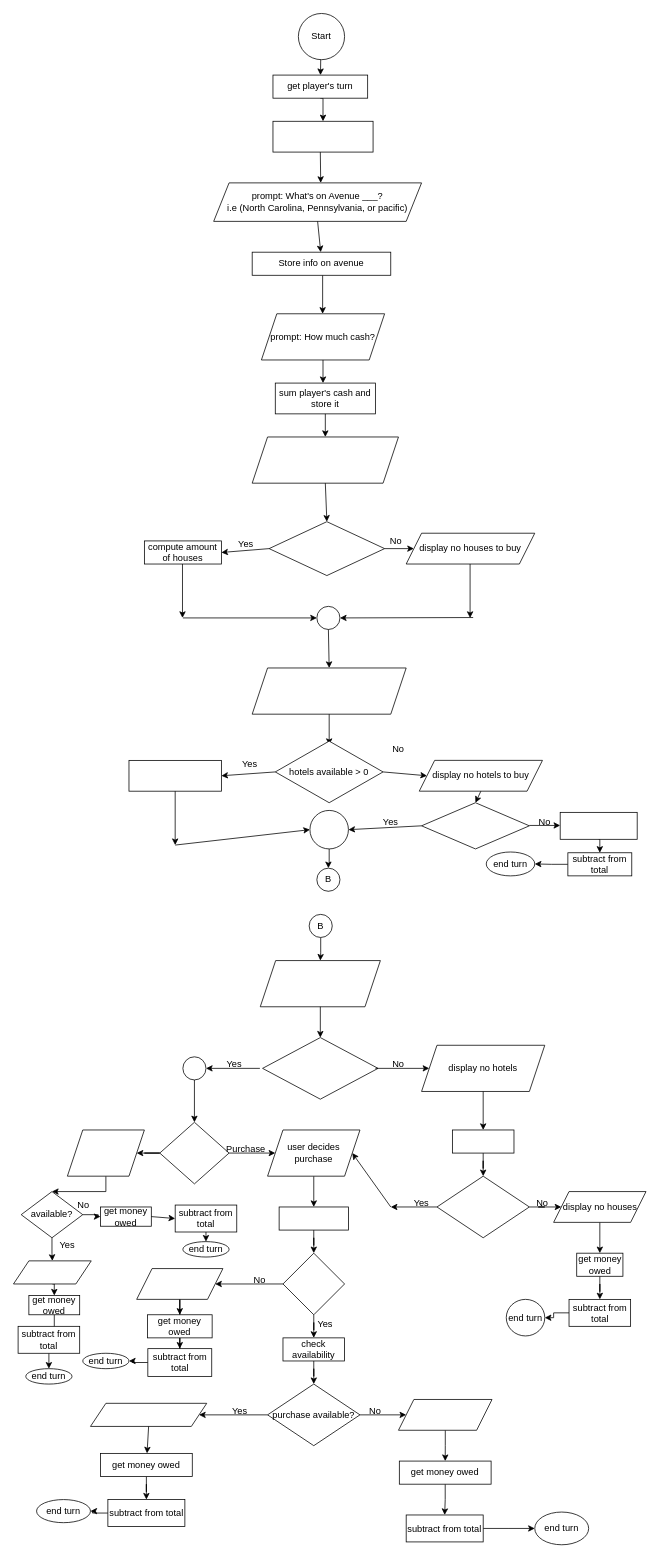
The diagram is 660 pixels wide and 1558 high, and some of its shapes have lost their labels. The shapes that lost their labels are listed below. From the top down, each one's centre as x and y in pixels, then its label:
At pixel 322 136: "get the avenue name".
At pixel 324 459: "Are there houses to buy?".
At pixel 326 548: "houses available > 0".
At pixel 328 690: "prompt Are there hotels to buy?".
At pixel 174 775: "compute amount of hotels available for purchase".
At pixel 475 825: "houses to buy?".
At pixel 598 825: "get the money owed".
At pixel 319 983: "prompt own all of color?".
At pixel 320 1068: "does own all of color?".
At pixel 105 1152: "user decides swap".
At pixel 194 1153: "purchase or swap".
At pixel 483 1141: "check square for properties".
At pixel 313 1218: "check players money".
At pixel 482 1206: "houses available?".
At pixel 52 1272: "display swap (pc or nc)".
At pixel 179 1283: "display no cash".
At pixel 313 1283: "enough money?".
At pixel 148 1414: "display purchase (A,B,C, or D)".
At pixel 445 1414: "display one hotel".
